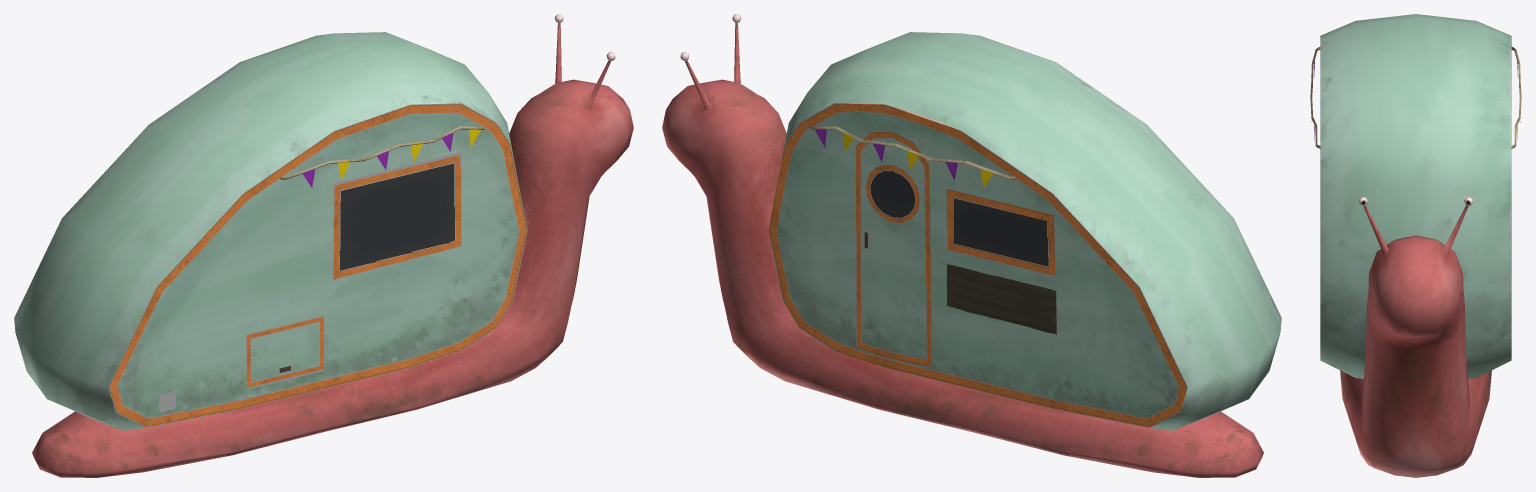
Rendered from snail caravan.glb.
The picture shows the model from 3 angles, left to right: view 1: azimuth 30°, elevation 25°; view 2: azimuth 150°, elevation 25°; view 3: azimuth 270°, elevation 25°; orthographic projection.
Visible parts, largest first — view 1: snailbody_low; view 2: snailbody_low; view 3: snailbody_low.
Part boxes in pixels (bbox=[...]): snailbody_low: bbox=[14, 14, 633, 477]; snailbody_low: bbox=[662, 14, 1281, 477]; snailbody_low: bbox=[1310, 14, 1521, 477].
Bounding box in the file's own units: 114 × 63.22 × 34.89.
Materials: 1 (1 with a texture image).
